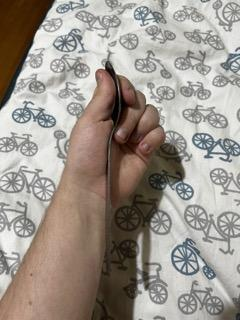spoon: (101, 60, 124, 279)
